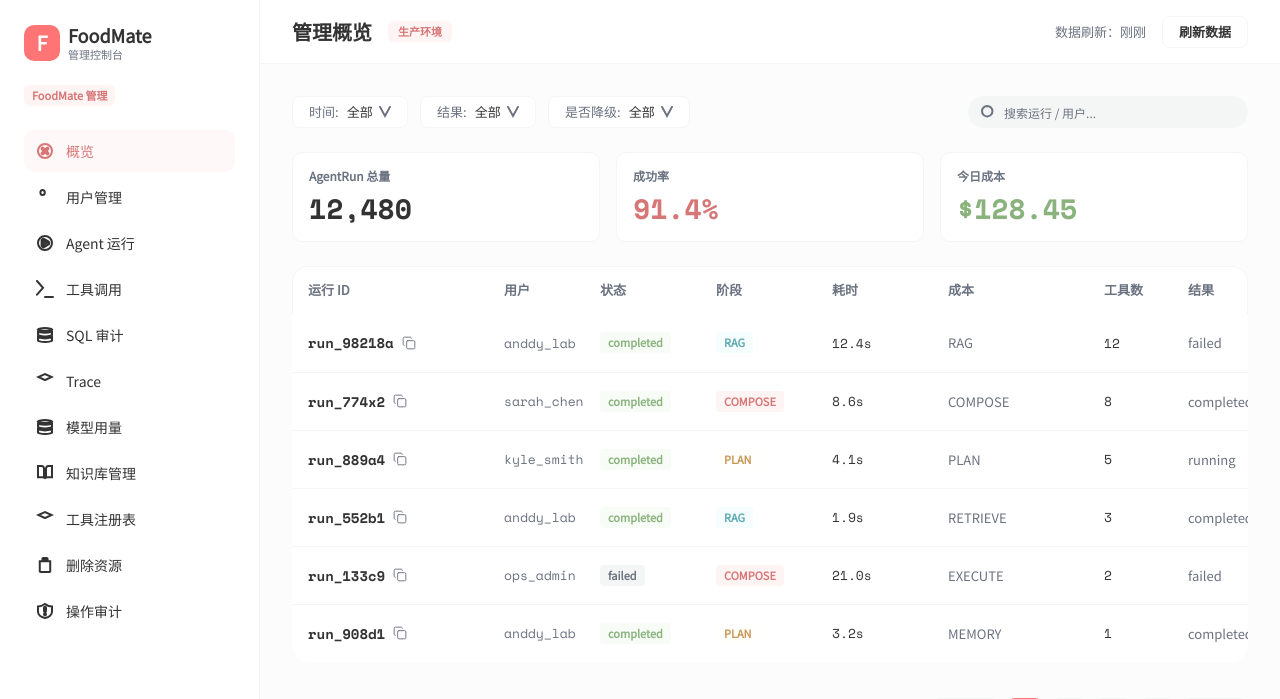
Test: AdminPage overview › filters the overview table by result and search query
Click the dropdown named "结果筛选": point(478, 112) 420,96 -> 536,128
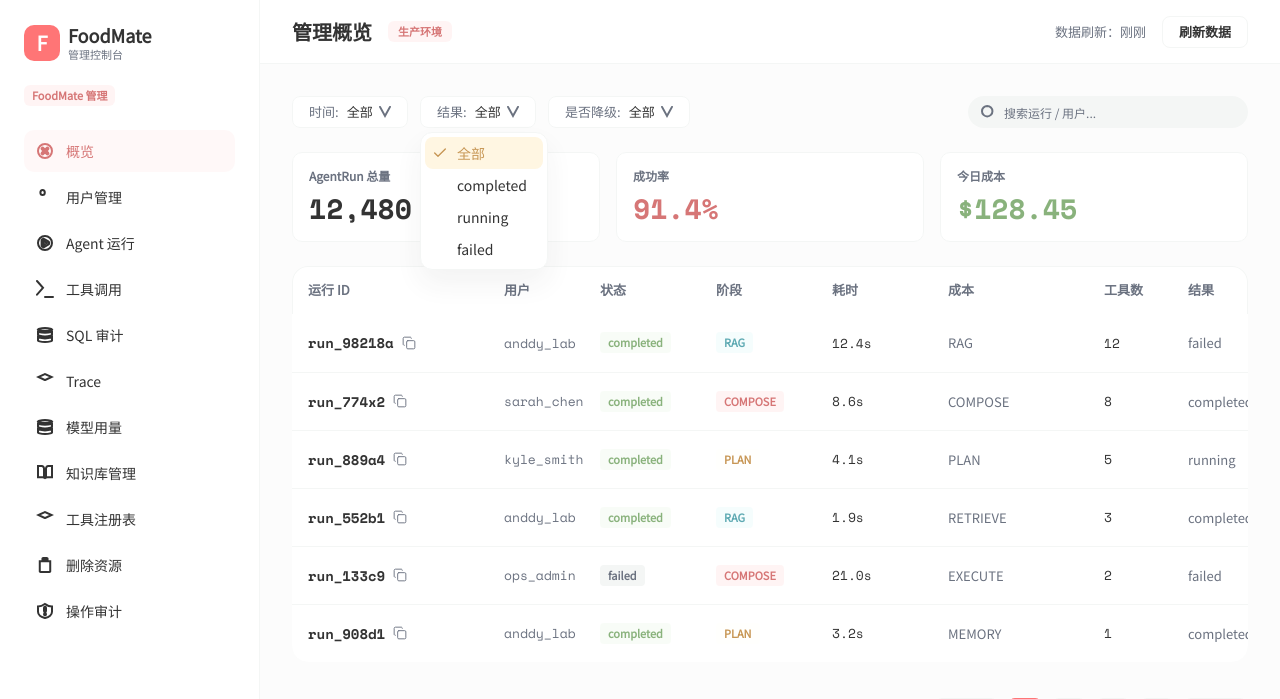
Click the option "completed": point(492, 185) 457,175 -> 527,195
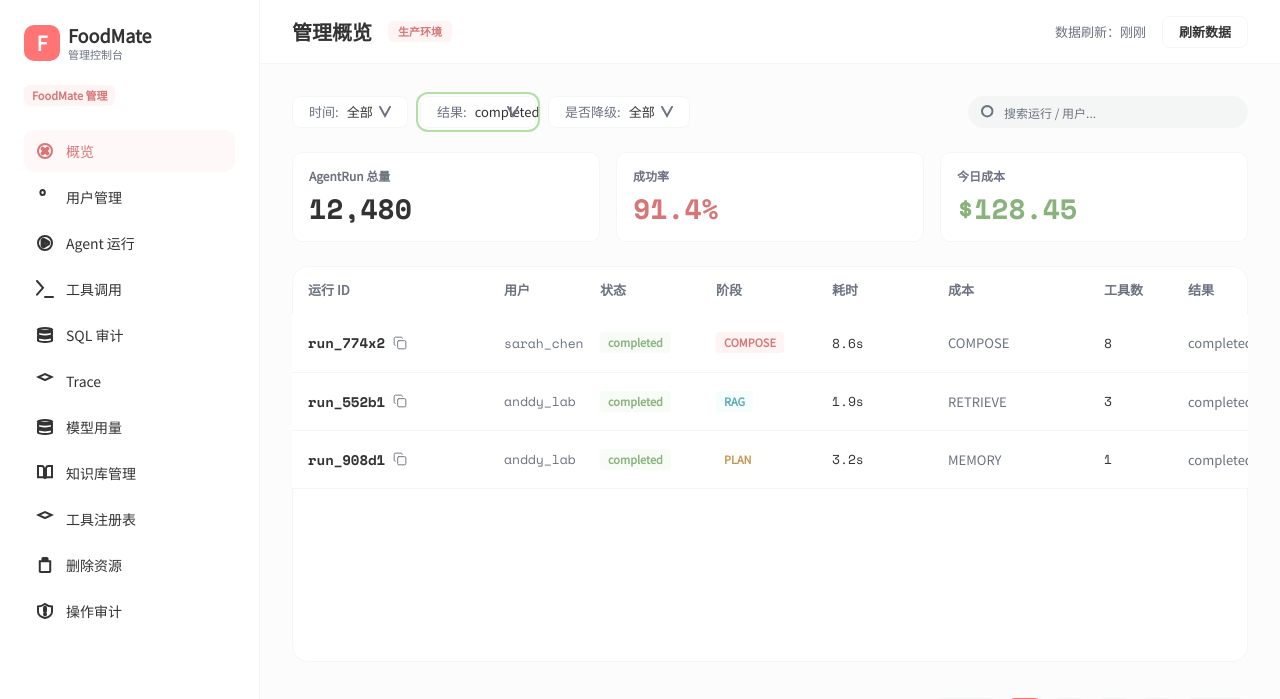
Expected: the text "run_889a4" is gone
Expected: the text "run_133c9" is gone
Expected: the text "run_98218a" is gone
In the field named "搜索运行或用户": point(1120, 112) 1004,97 -> 1236,127, type "sarah_chen"
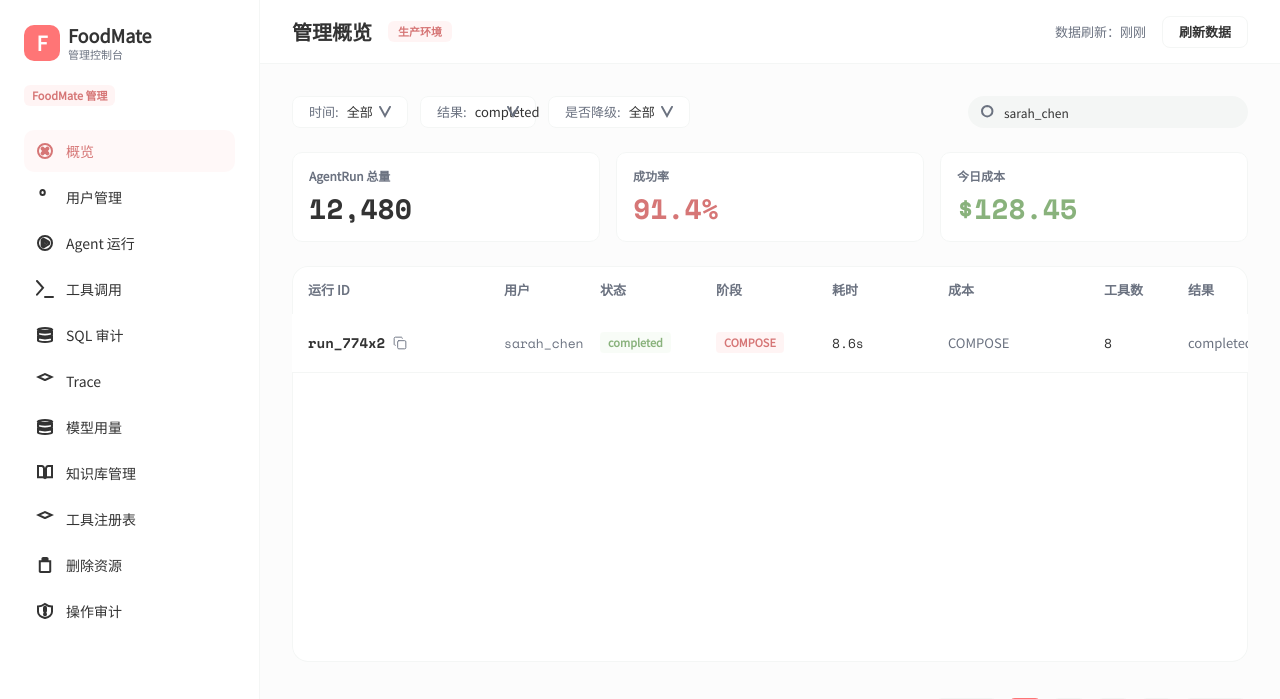
Expected: the text "run_774x2" is shown, 308,332 -> 385,353
Expected: the text "run_552b1" is gone
